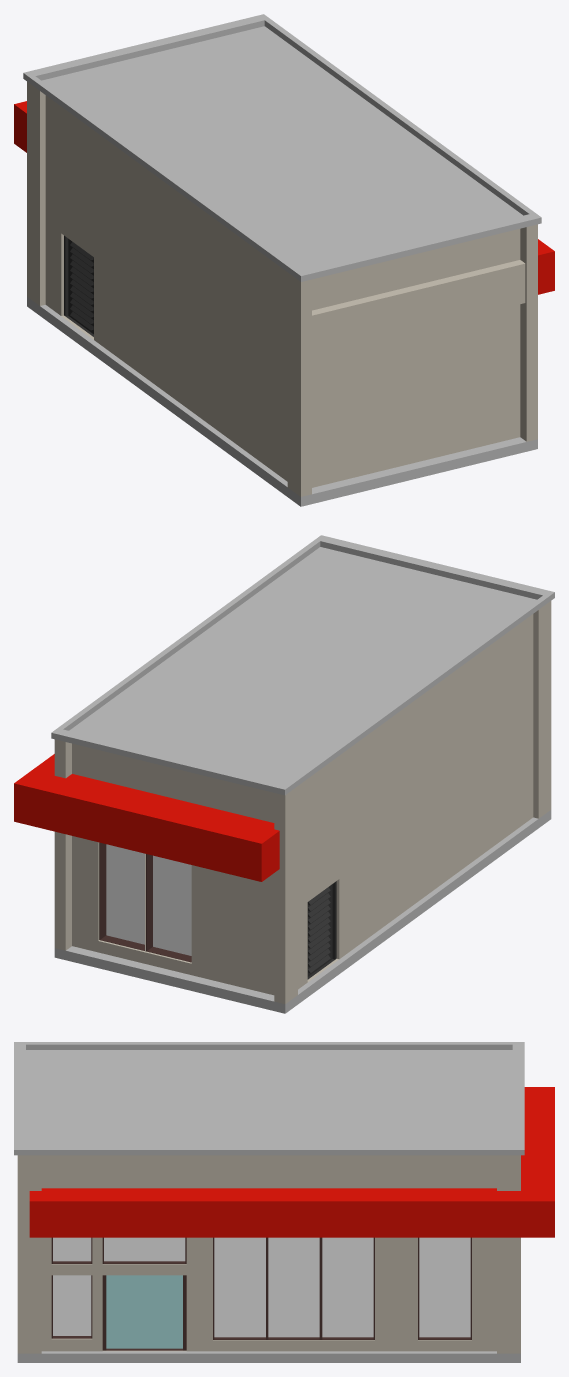
The model's file is building10.fbx.
The picture shows the model from 3 angles, top to bottom: view 1: azimuth 30°, elevation 25°; view 2: azimuth 150°, elevation 25°; view 3: azimuth 270°, elevation 25°; orthographic projection. The views are drawn at different scales.
Visible parts, largest first — view 1: building_016; view 2: building_016; view 3: building_016.
Boxes of the visible parts, x1,y1,x2,y2 form: building_016: (14,14,554,506); building_016: (14,535,554,1013); building_016: (14,1042,554,1362).
Size of the model in its own units: 13.94 by 11.8 by 27.09.
